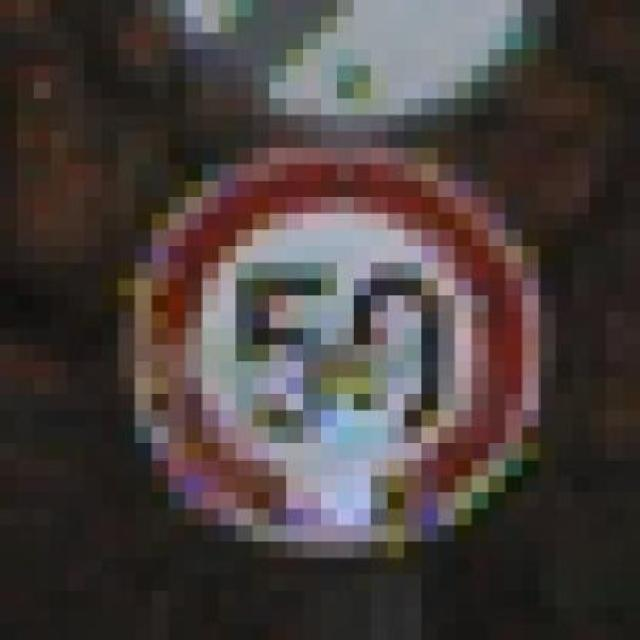forb_speed_over_50: (139, 155, 536, 543)
